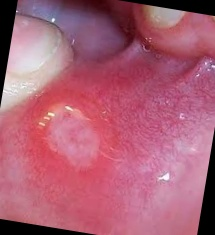Ulcer: (34, 95, 108, 182)
